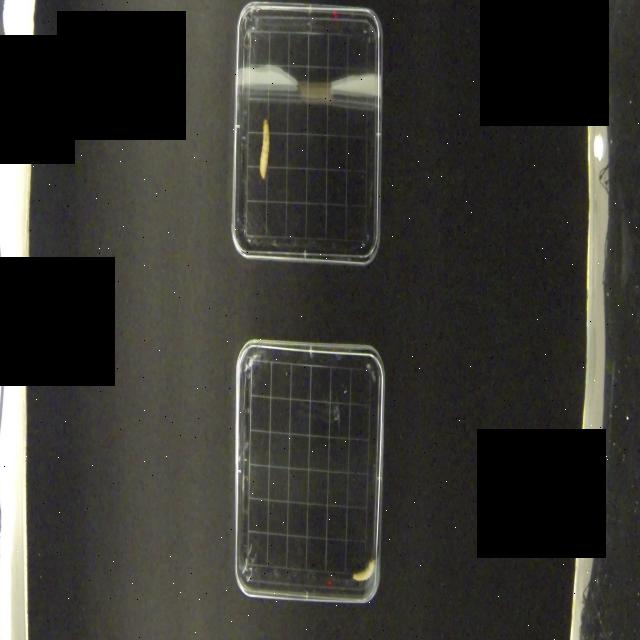larva: (256, 116, 276, 179), (351, 556, 376, 584)
